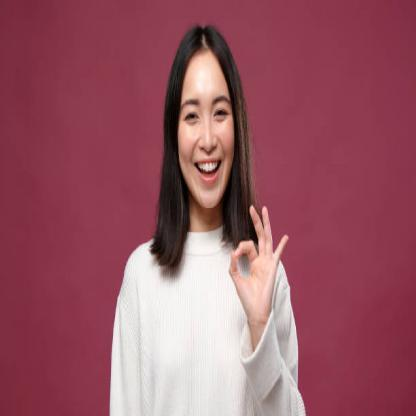ok: (227, 202, 290, 330)
